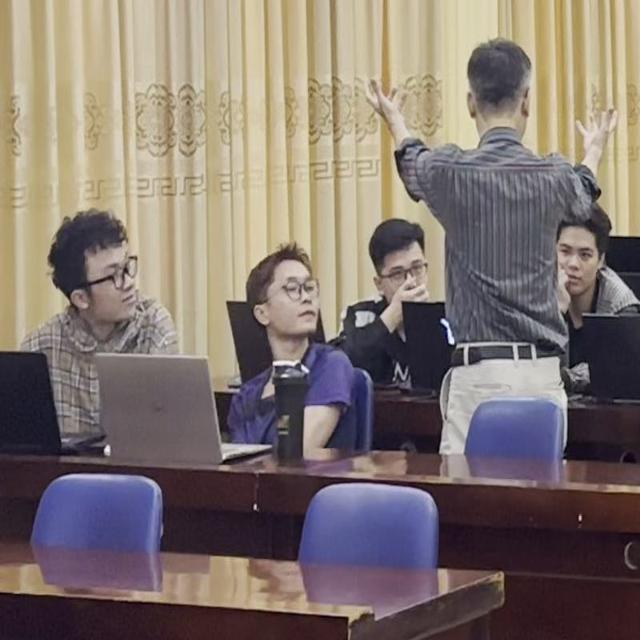Looking away: (45, 212, 143, 320), (252, 247, 326, 341)
Looking forward: (369, 218, 436, 308), (548, 202, 604, 293)
